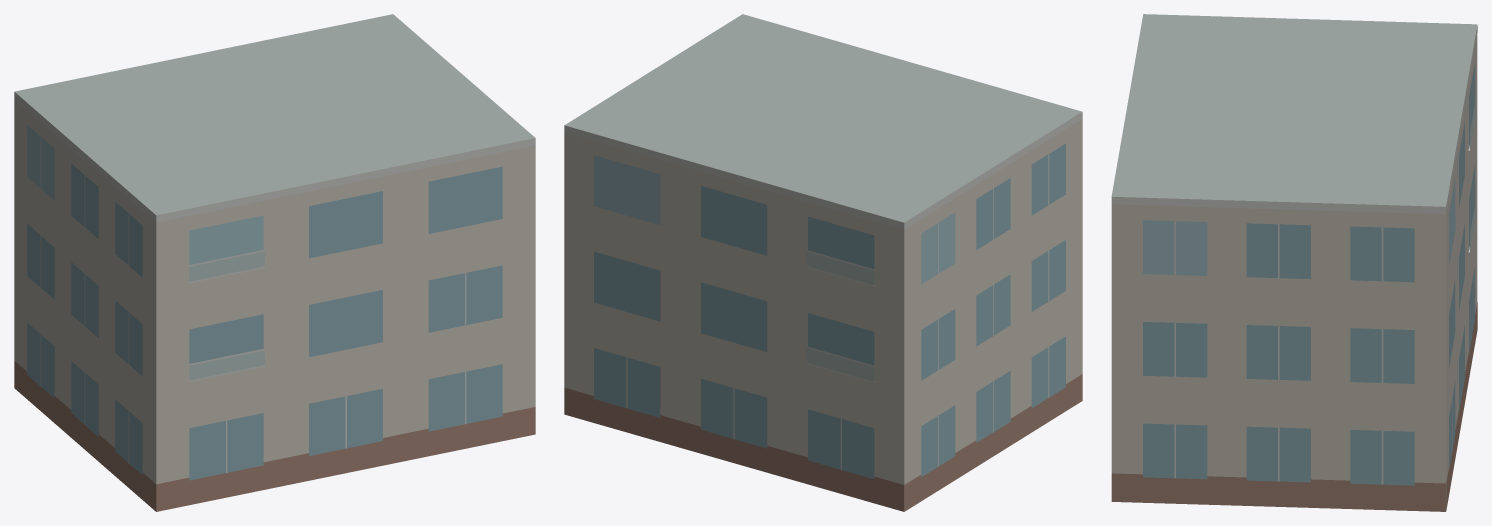
Rendered from survey-upis-32803863.glb.
The picture shows the model from 3 angles, left to right: view 1: azimuth 30°, elevation 25°; view 2: azimuth 150°, elevation 25°; view 3: azimuth 270°, elevation 25°; orthographic projection. The views are drawn at different scales.
Parts seen in each view (by area): view 1: survey-upis-32803863.tmp; view 2: survey-upis-32803863.tmp; view 3: survey-upis-32803863.tmp.
Boxes of the visible parts, bbox=[...] form: survey-upis-32803863.tmp: bbox=[14, 14, 535, 511]; survey-upis-32803863.tmp: bbox=[564, 14, 1082, 511]; survey-upis-32803863.tmp: bbox=[1111, 14, 1477, 511].
Bounding box in the file's own units: 13.57 × 10 × 10.89.
